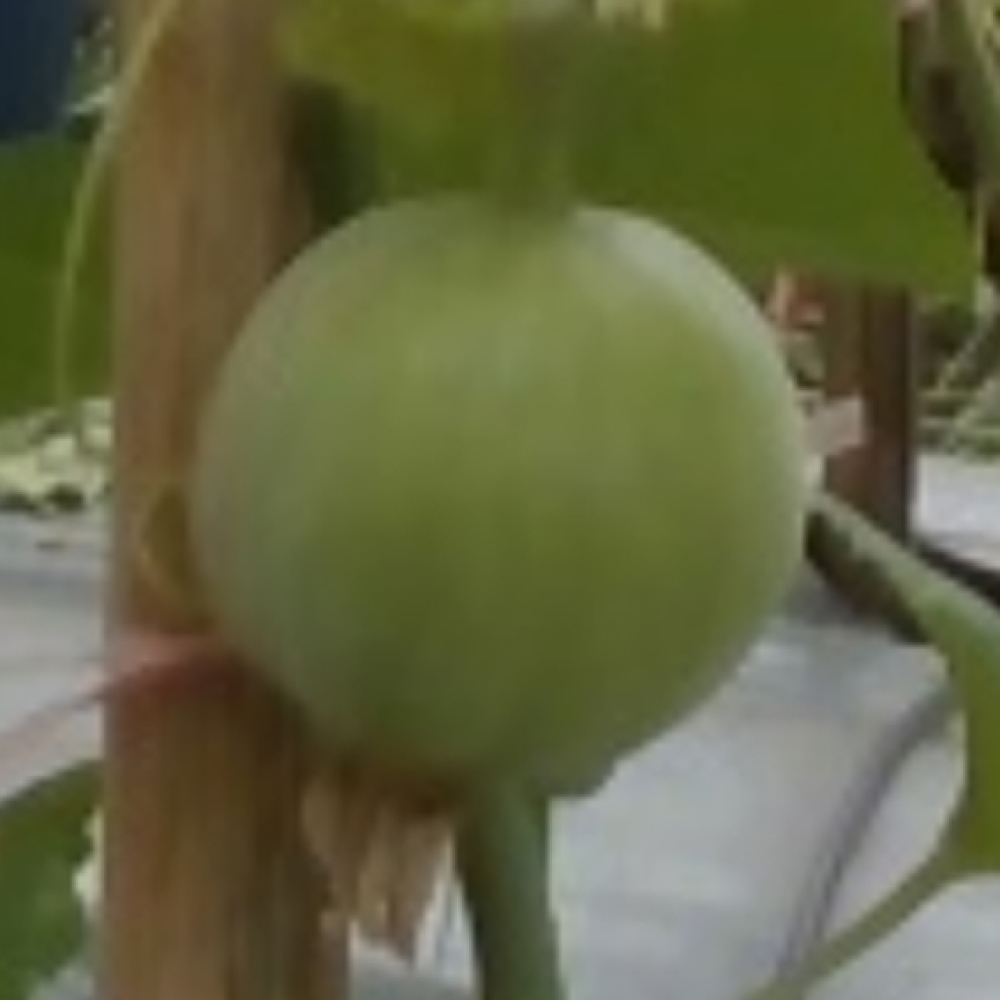melon: (179, 184, 816, 800)
